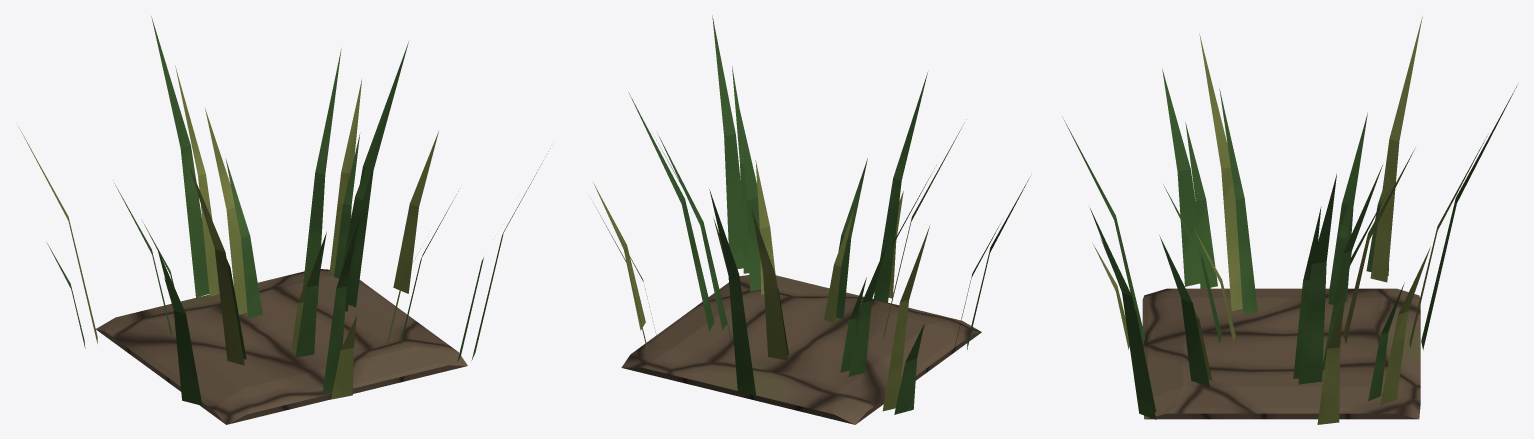
The model's file is env_grass_clump_tall.glb.
3 views of the same model, side by side, from view 1: azimuth 30°, elevation 25°; view 2: azimuth 150°, elevation 25°; view 3: azimuth 270°, elevation 25° (orthographic). The views are drawn at different scales.
Parts seen in each view (by area): view 1: Env_grass_clump_tall; view 2: Env_grass_clump_tall; view 3: Env_grass_clump_tall.
Boxes of the visible parts, box(x1,y1,x2,y2) form: Env_grass_clump_tall: box(16, 16, 550, 424); Env_grass_clump_tall: box(592, 15, 1030, 424); Env_grass_clump_tall: box(1062, 16, 1518, 424).
Size of the model in its own units: 1.03 by 0.6449 by 1.
Materials: 3 (3 with a texture image).
